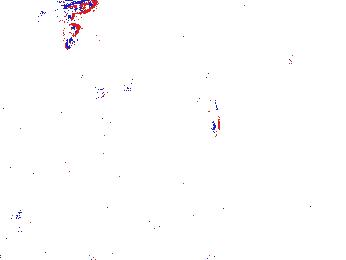glassfish: (187, 67, 224, 142)
redtail glassfish: (28, 1, 98, 26), (93, 75, 135, 99), (60, 20, 81, 47)
